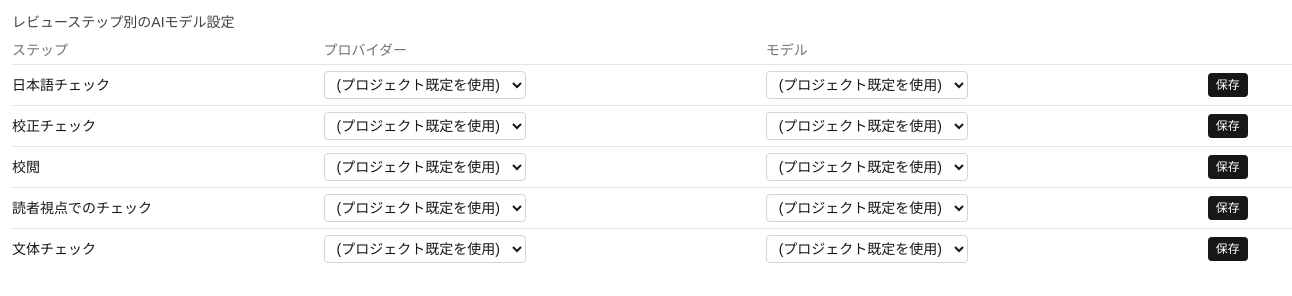
Test: ReviewStepSettingsPanel › 失敗後に再度保存して成功すると、エラーメッセージが消える
This screenshot has width=1292, height=296.
Select "OpenAI (ChatGPT)" in the dropdown named "日本語チェックのプロバイダー" at point(425, 85), box [324,71,526,99]
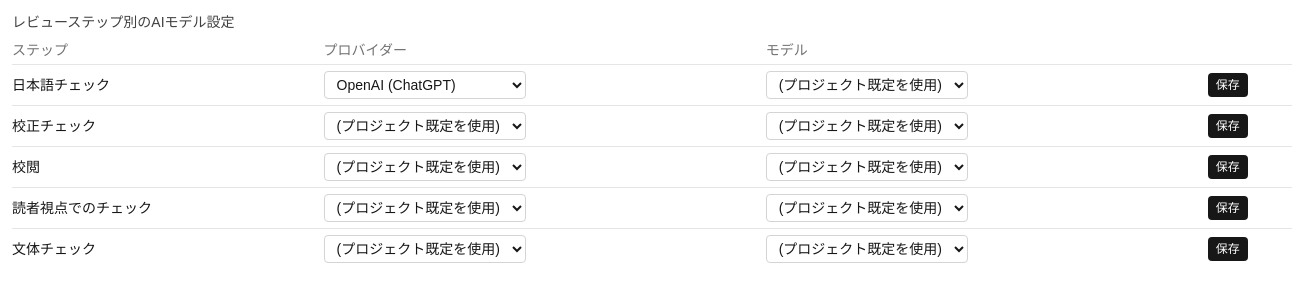
Click the button "保存" in the row of "日本語チェック" at point(1228, 85), box [1208,73,1248,97]
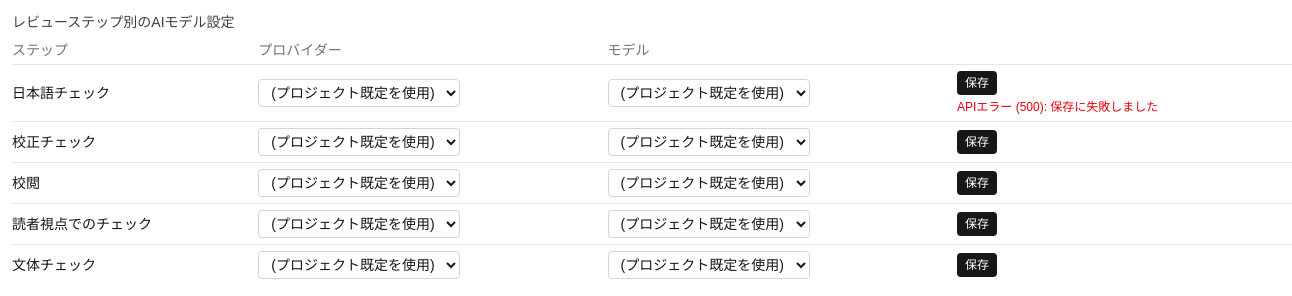
Result: the text "APIエラー (500): 保存に失敗しました" is shown at [957,100,1158,114]
Select "OpenAI (ChatGPT)" in the dropdown named "日本語チェックのプロバイダー" at point(359, 93), box [258,79,460,107]
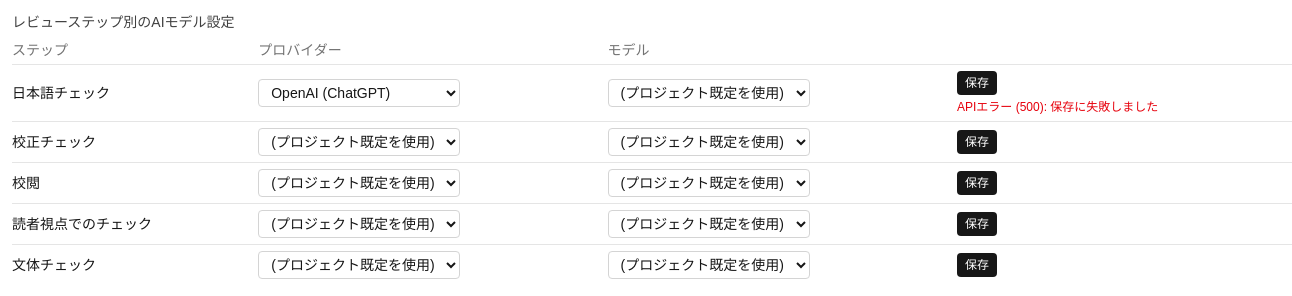
Click the button "保存" in the row of "日本語チェック" at point(977, 83), box [957,71,997,95]
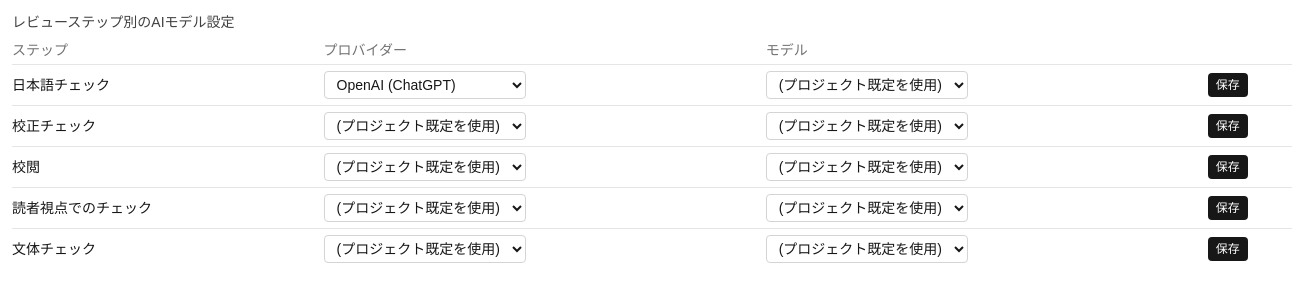
Result: the text "APIエラー (500): 保存に失敗しました" is gone
